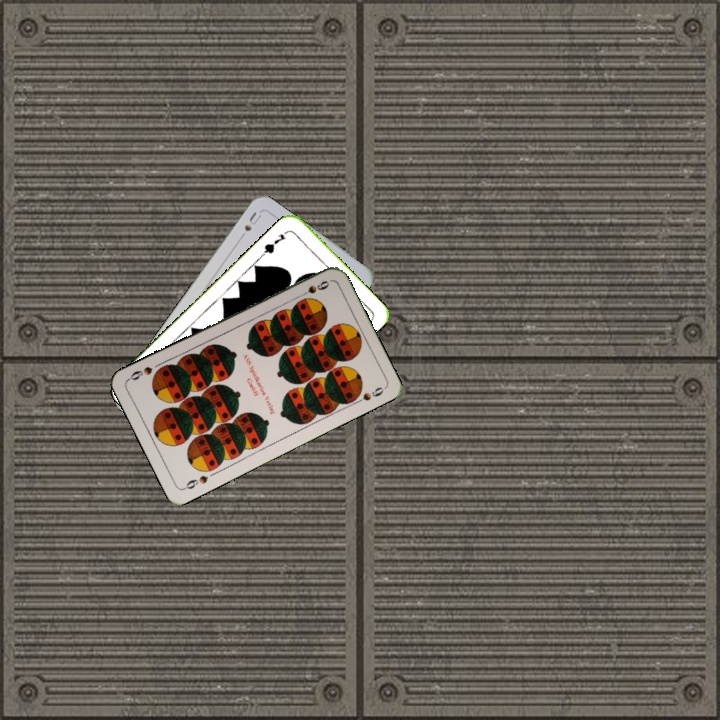G7: (258, 229, 288, 258)
S9: (294, 276, 332, 300), (179, 471, 210, 492)
SU: (240, 208, 264, 234)
